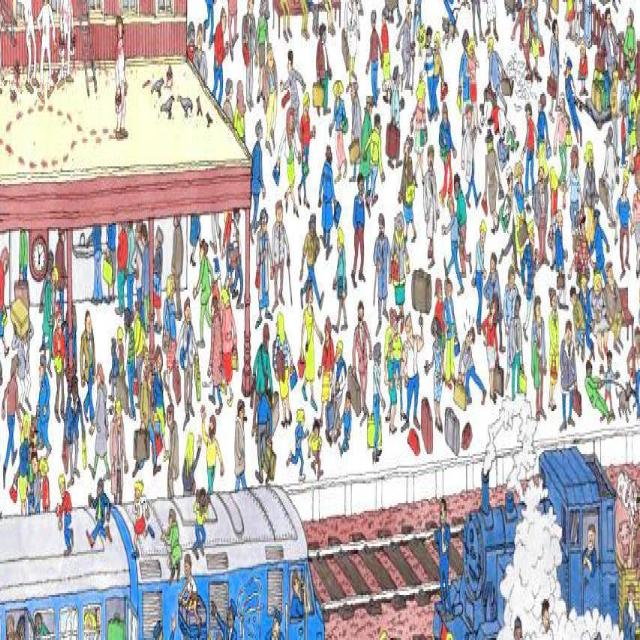waldo: (578, 209, 586, 237)
